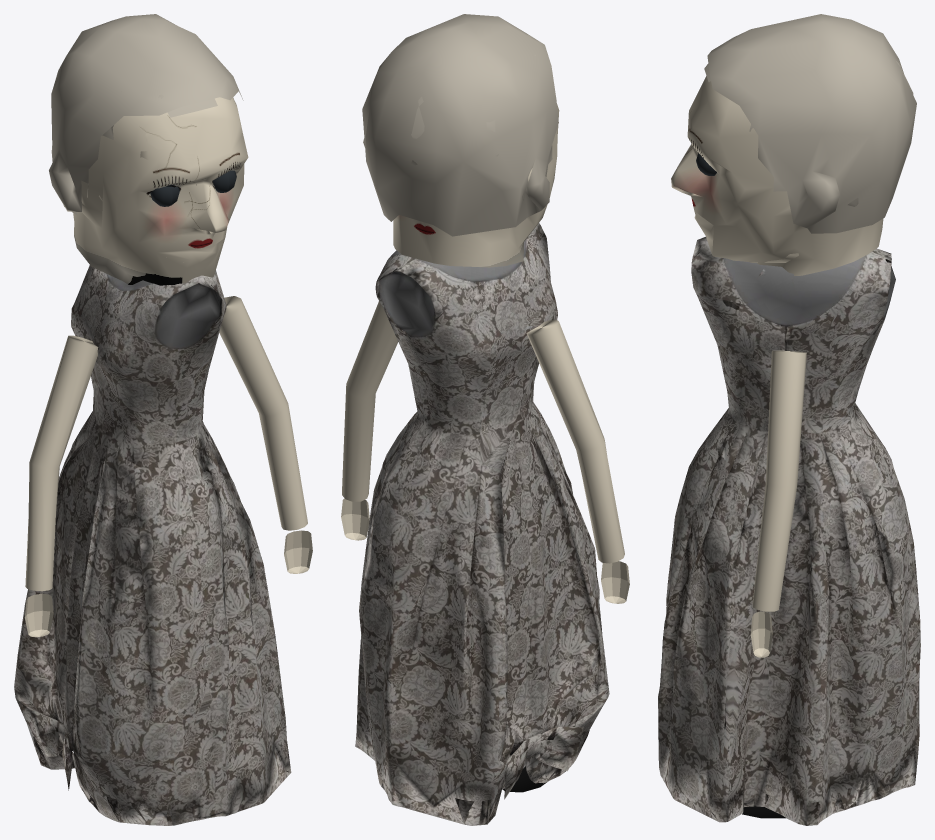
Rendered from doll.glb.
The picture shows the model from 3 angles, left to right: view 1: azimuth 30°, elevation 25°; view 2: azimuth 150°, elevation 25°; view 3: azimuth 270°, elevation 25°; orthographic projection.
Parts seen in each view (by area): view 1: body, head_mesh, jaw_mesh; view 2: body, head_mesh; view 3: body, head_mesh.
Part boxes in pixels (left/top/right/bottom): body: left=14, top=265, right=312, bottom=825; head_mesh: left=49, top=14, right=248, bottom=285; jaw_mesh: left=156, top=238, right=224, bottom=268; body: left=341, top=223, right=629, bottom=825; head_mesh: left=362, top=14, right=559, bottom=267; body: left=658, top=236, right=920, bottom=825; head_mesh: left=671, top=14, right=916, bottom=275.
Size of the model in its own units: 0.1692 by 0.4277 by 0.1331.
4 materials, 2 textured.
